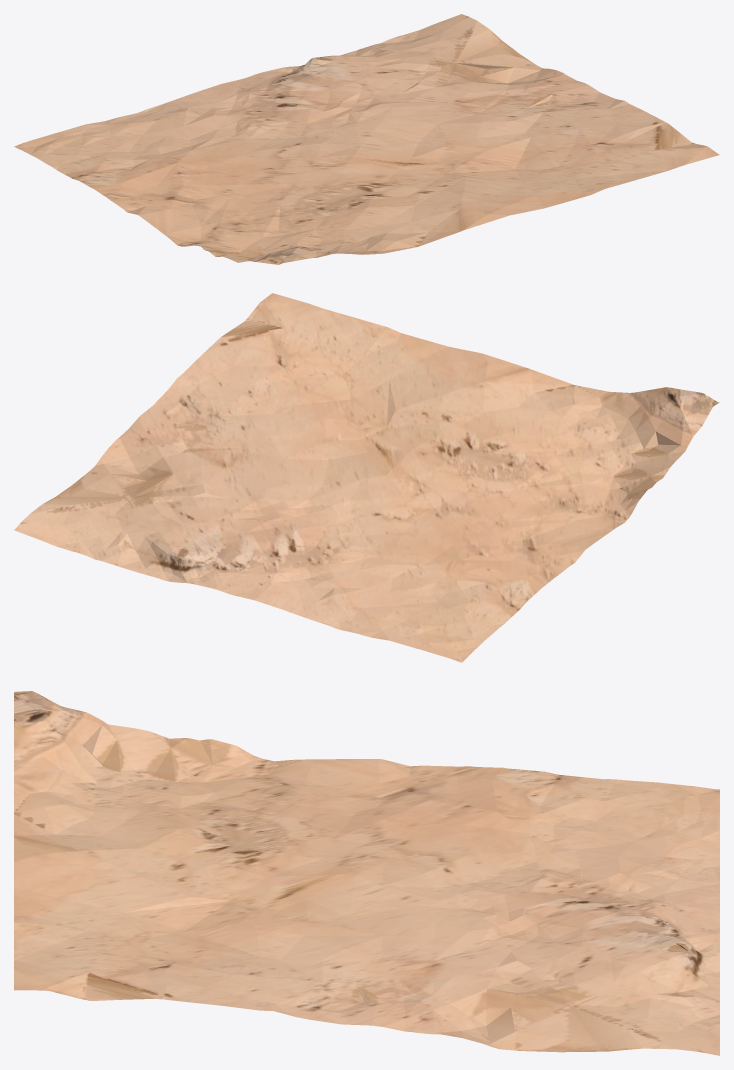
The picture shows the model from 3 angles, top to bottom: view 1: azimuth 30°, elevation 25°; view 2: azimuth 150°, elevation 25°; view 3: azimuth 270°, elevation 25°; orthographic projection. The views are drawn at different scales.
Size of the model in its own units: 2.09 by 0.3411 by 2.09.
3 materials, 3 textured.
